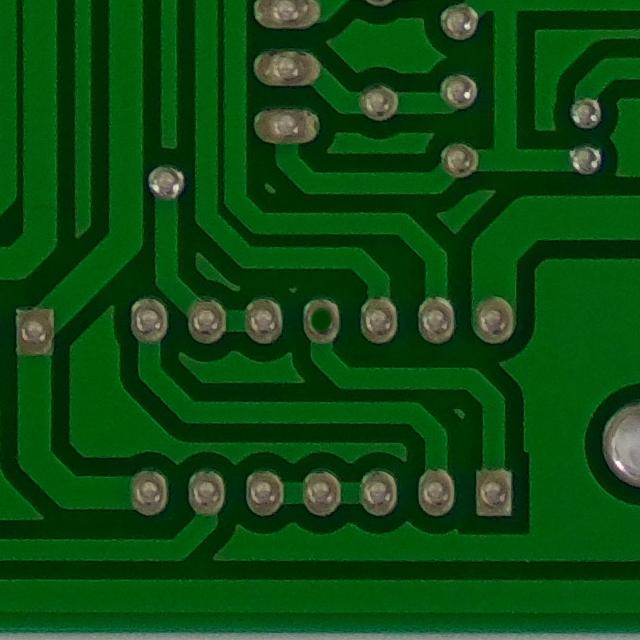missing_hole: (295, 286, 346, 355)
